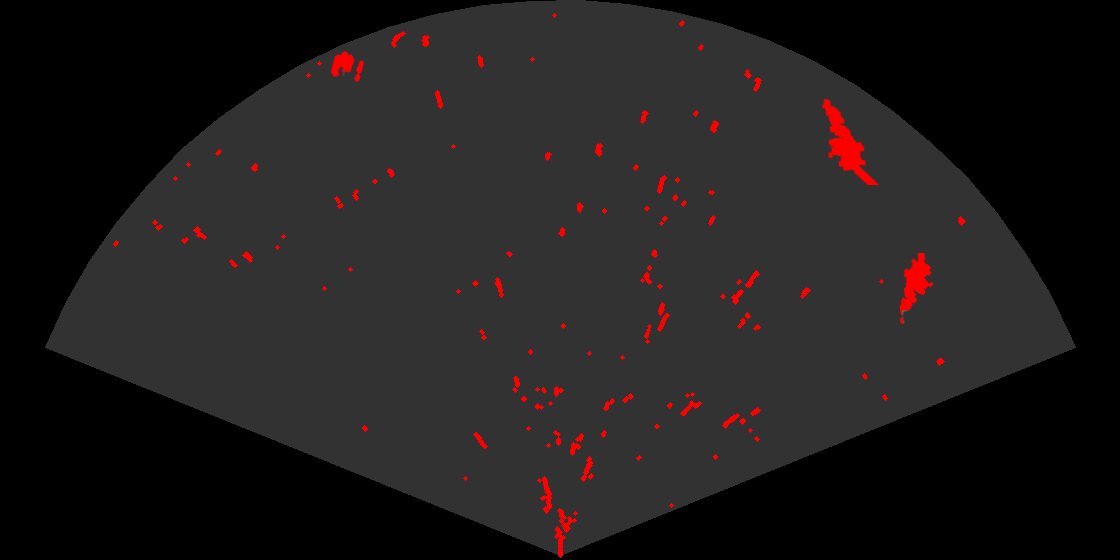ball: (329, 50, 366, 84)
frogman: (820, 97, 881, 185), (898, 253, 935, 325)
